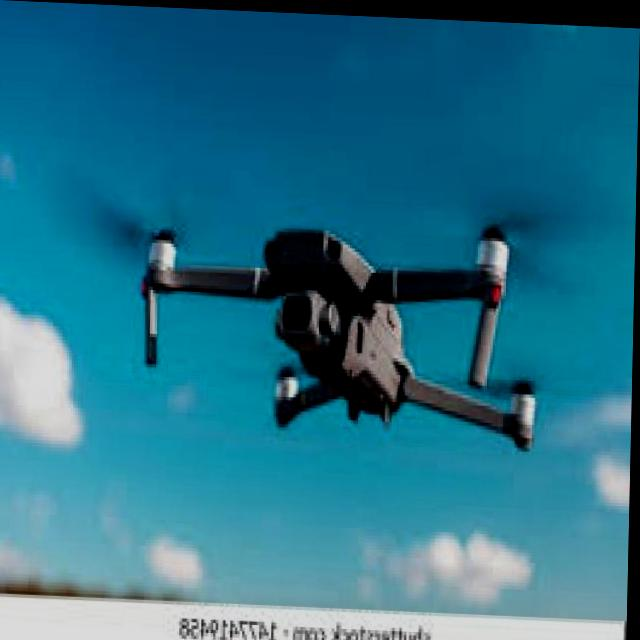drone: (99, 172, 575, 466)
